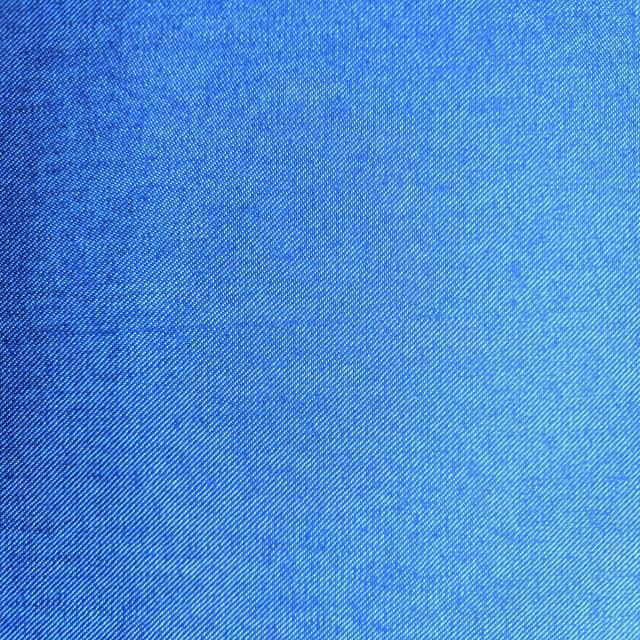Line: (4, 302, 581, 341)
